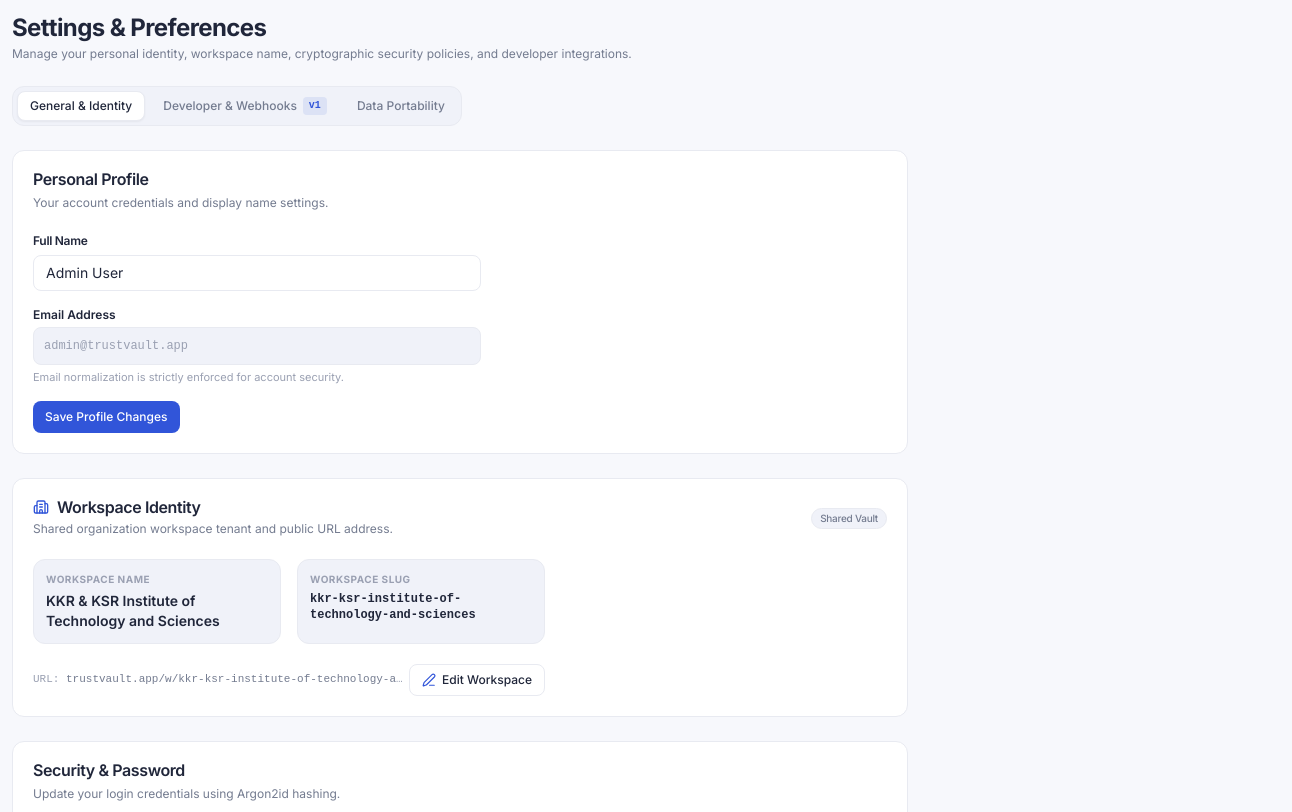
it: Workspace Identity Settings (Name and Slug Editing) › displays real-time validation message when slug is taken
Click the button "Edit Workspace". click: (477, 680)
box: [409, 664, 545, 696]
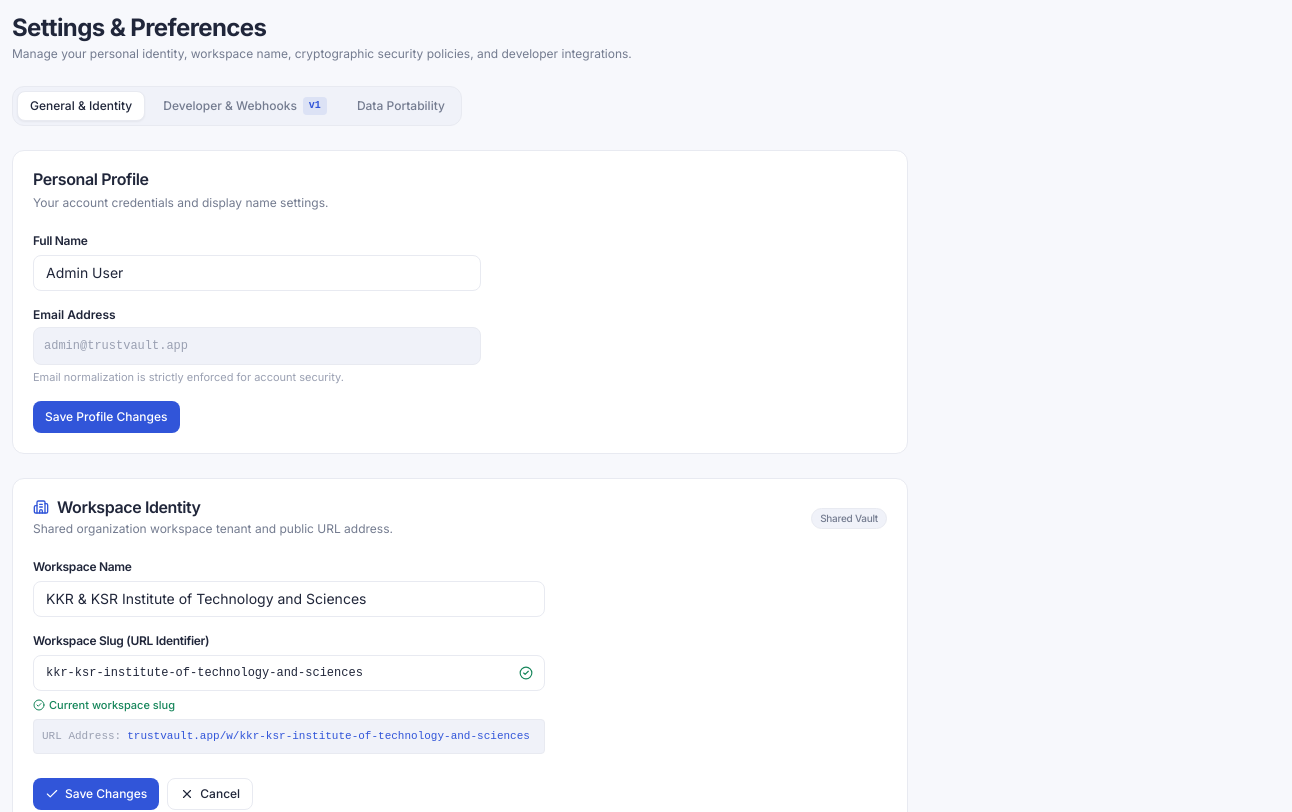
Replace the text in the field labelled "Workspace Slug (URL Identifier)" with "taken-slug". click: (289, 672)
box: [33, 654, 545, 690]
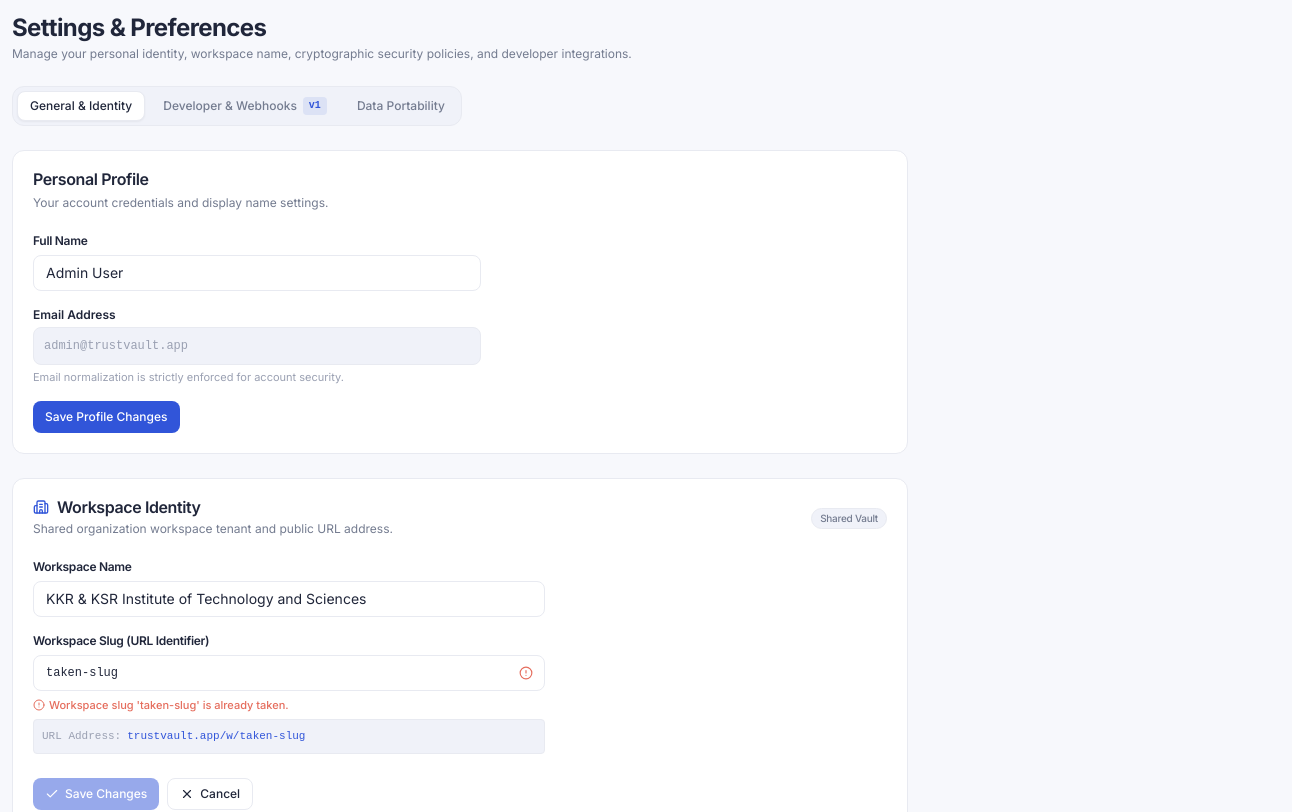
Result: the text "Workspace slug 'taken-slug' is already taken." is shown at [49, 696, 289, 713]
Result: the button "Save Changes" is disabled at [33, 778, 159, 810]
